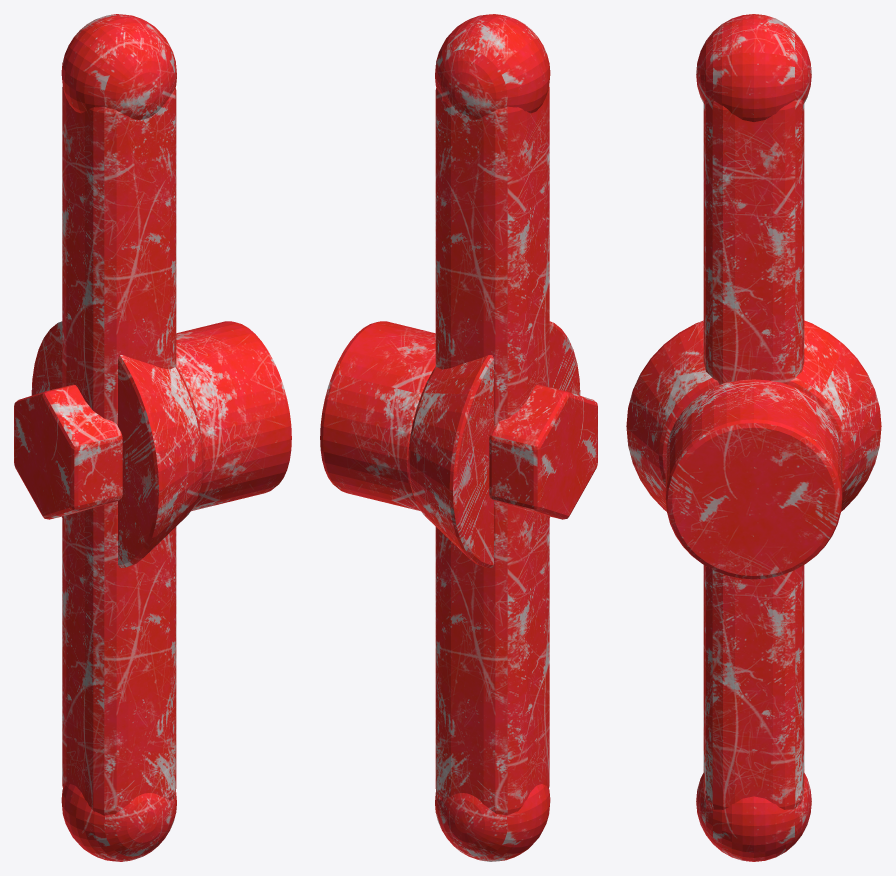
File: valve_wheel_vis.obj
3 renders of one model, left to right at view 1: azimuth 30°, elevation 25°; view 2: azimuth 150°, elevation 25°; view 3: azimuth 270°, elevation 25°, orthographic.
Size of the model in its own units: 0.057 by 0.22 by 0.0607.
1 material, 1 textured.
